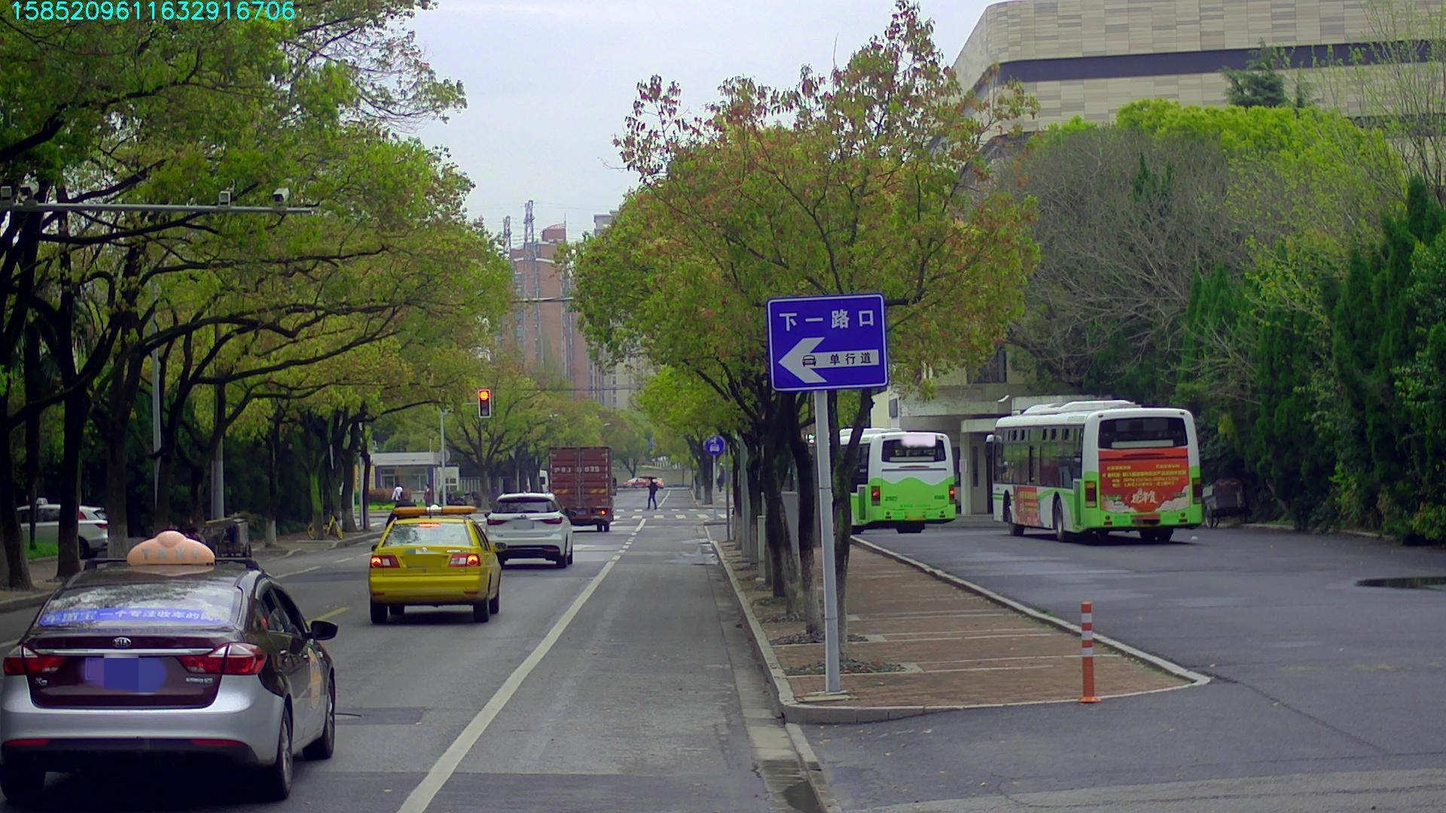red: (477, 389, 490, 416)
